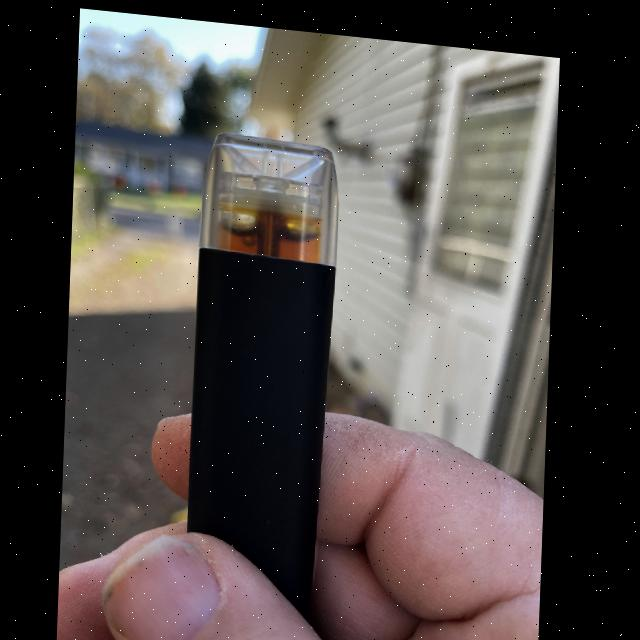vape: (191, 128, 343, 603)
